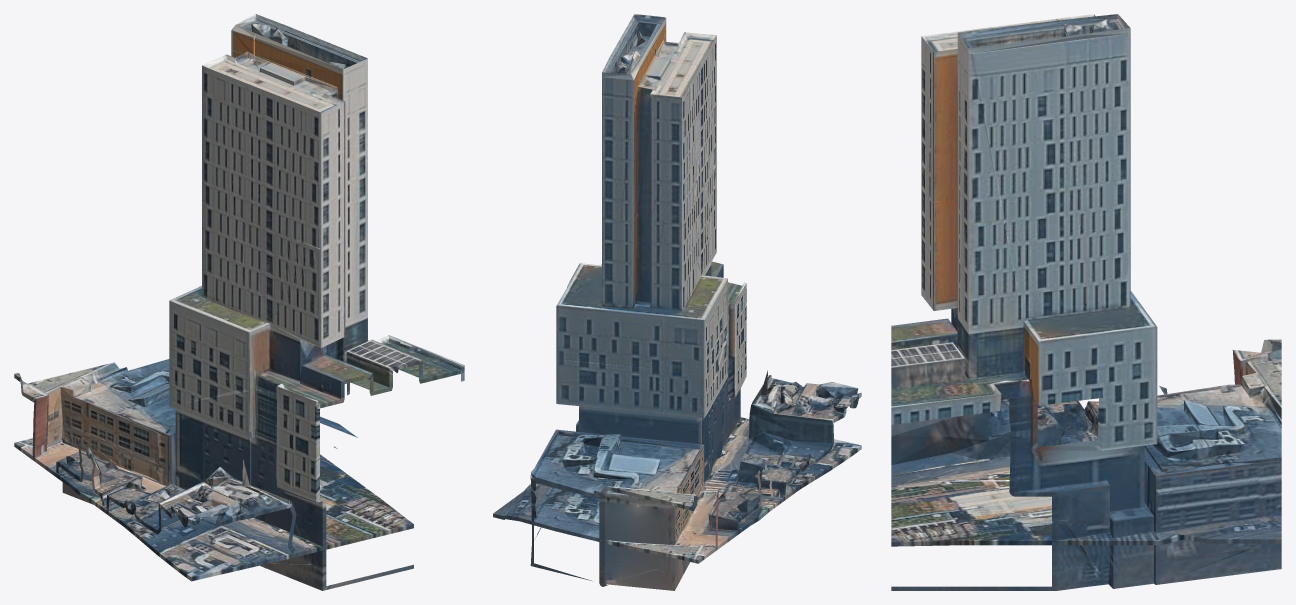
Rendered from chunk_4_-3.glb.
3 renders of one model, left to right at view 1: azimuth 30°, elevation 25°; view 2: azimuth 150°, elevation 25°; view 3: azimuth 270°, elevation 25°, orthographic. The views are drawn at different scales.
Visible parts, largest first — view 1: hero-chunk; view 2: hero-chunk; view 3: hero-chunk.
Boxes of the visible parts, left/top/right/bottom form: hero-chunk: left=14, top=14, right=464, bottom=590; hero-chunk: left=493, top=14, right=861, bottom=590; hero-chunk: left=891, top=14, right=1281, bottom=590.
Bounding box in the file's own units: 68.32 × 117 × 76.32.
6 materials, 6 textured.
